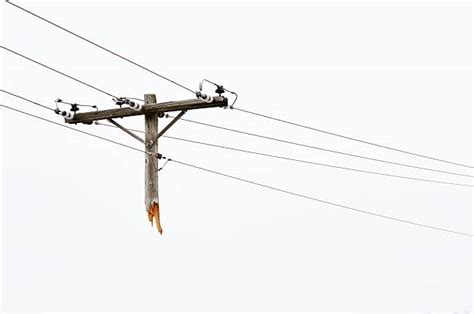pole: (13, 4, 472, 244)
